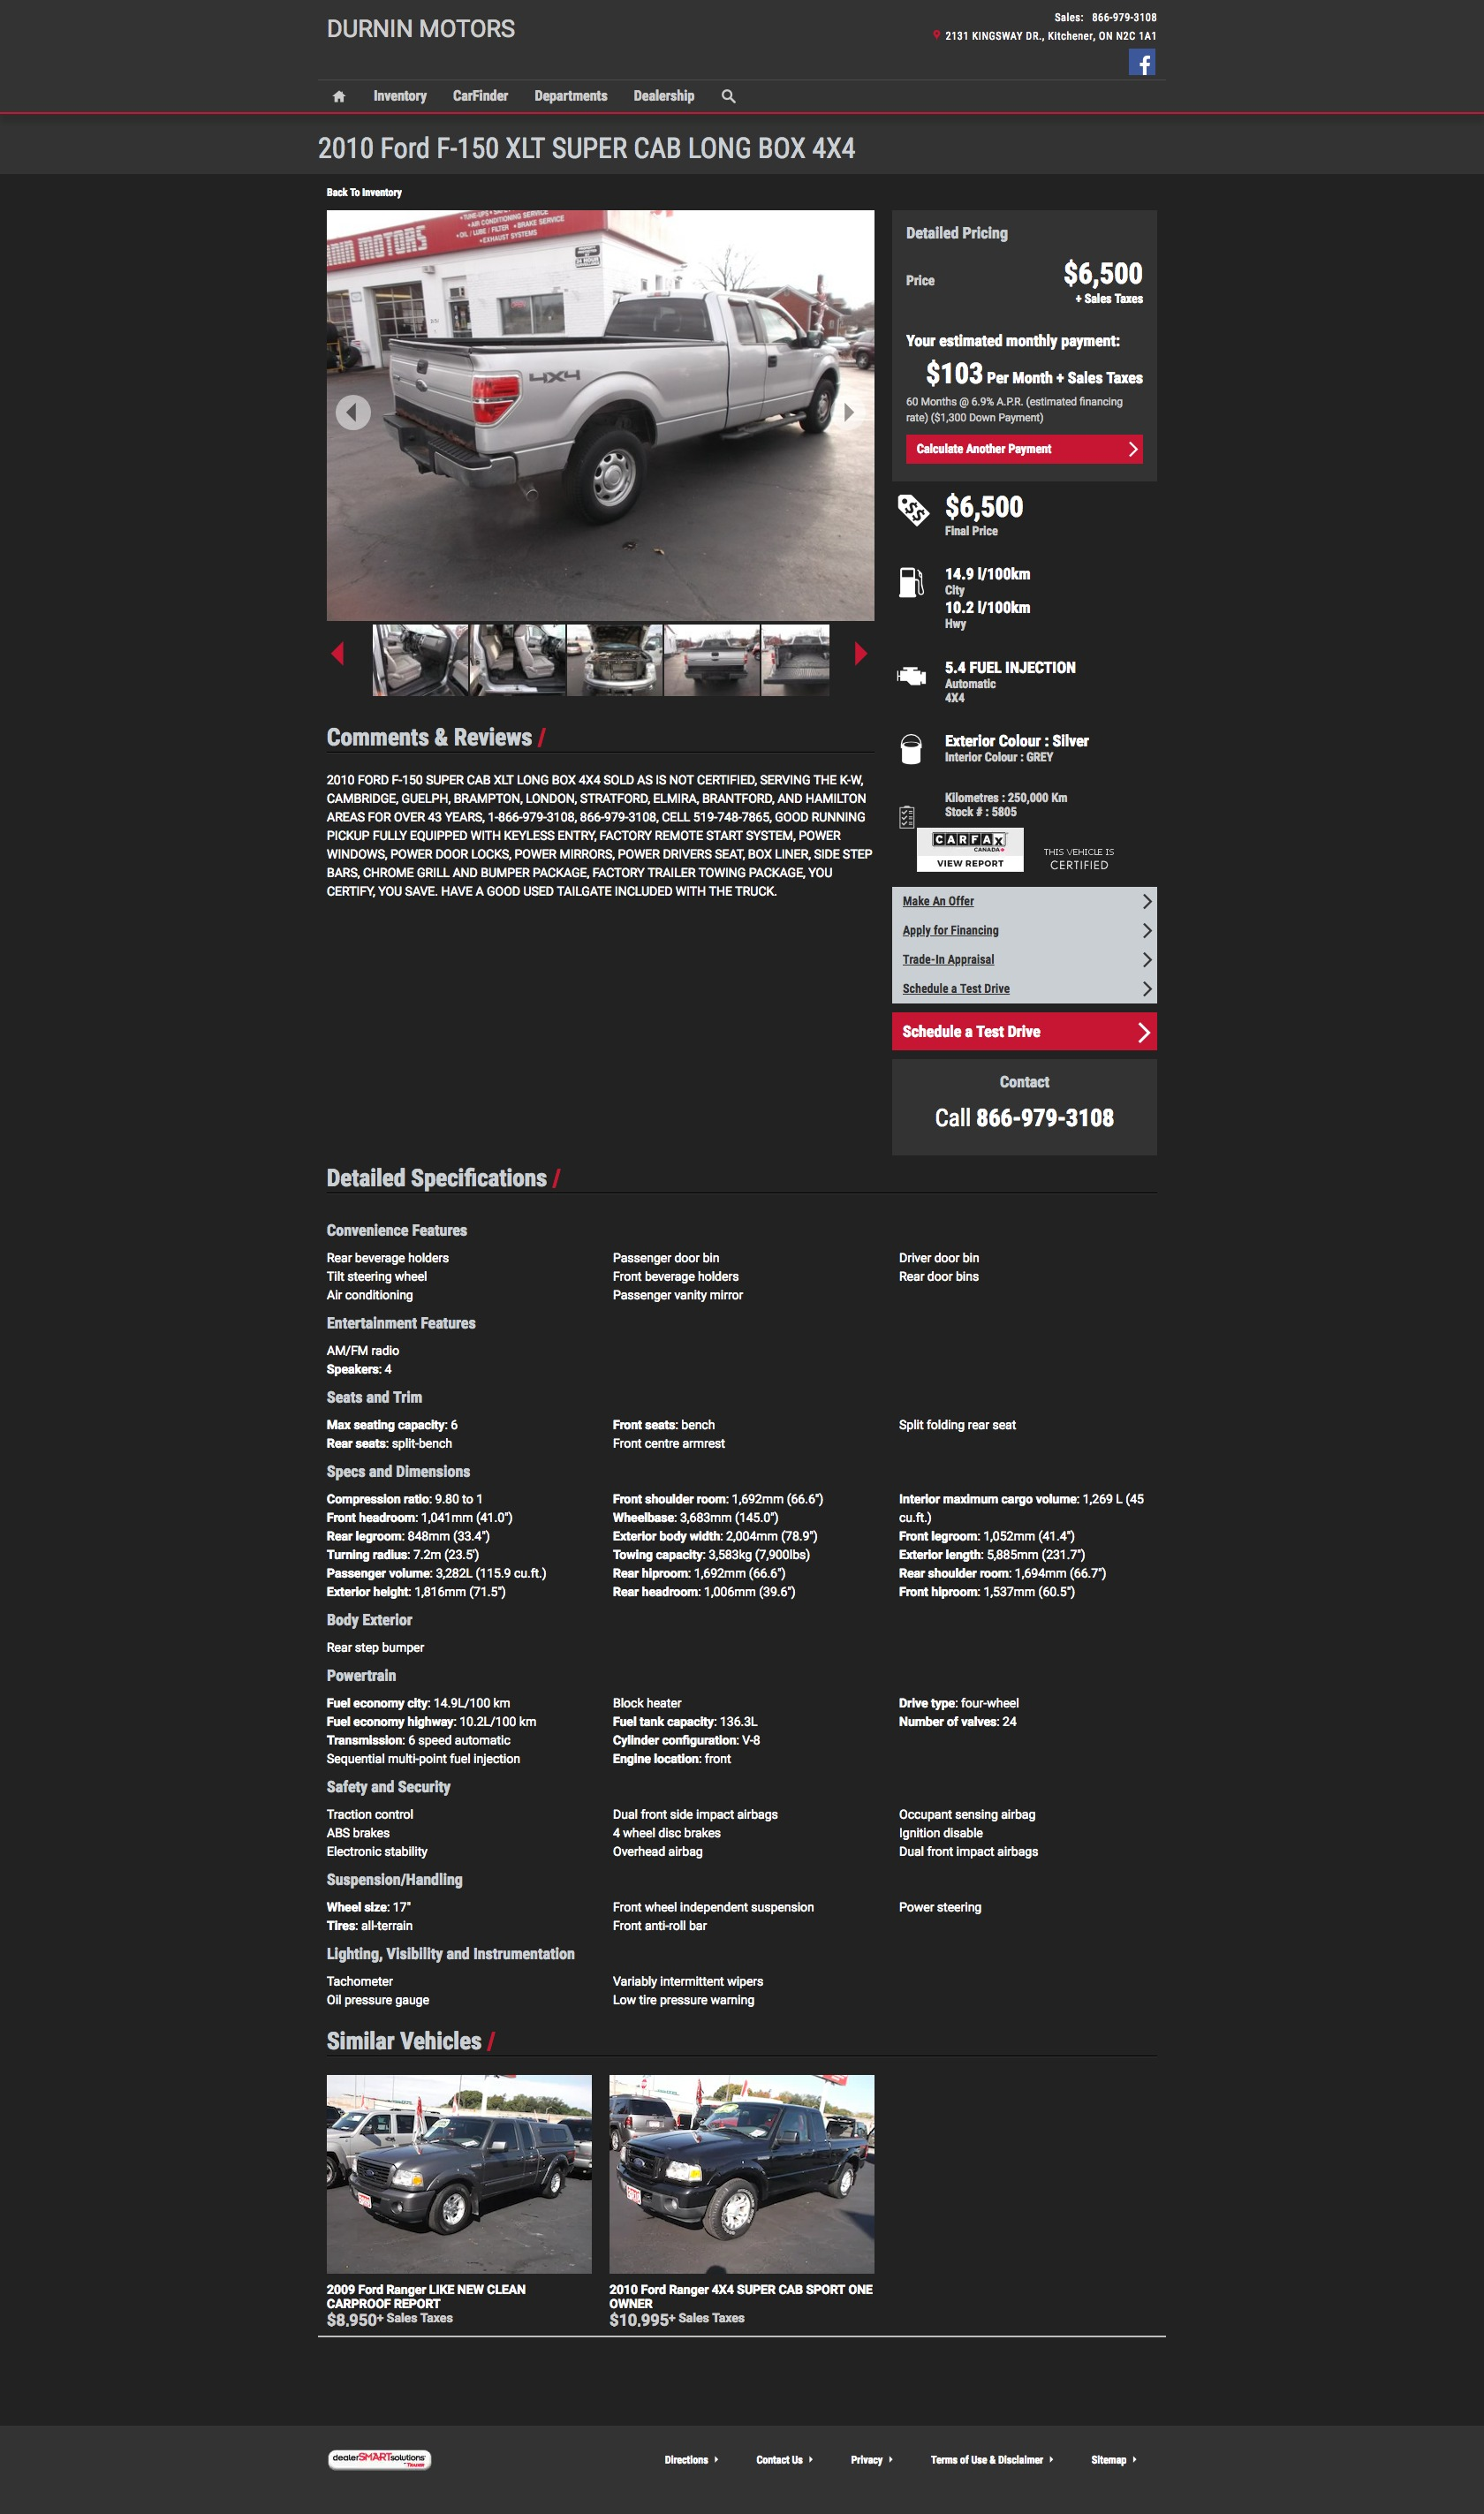car: (855, 641, 867, 668)
